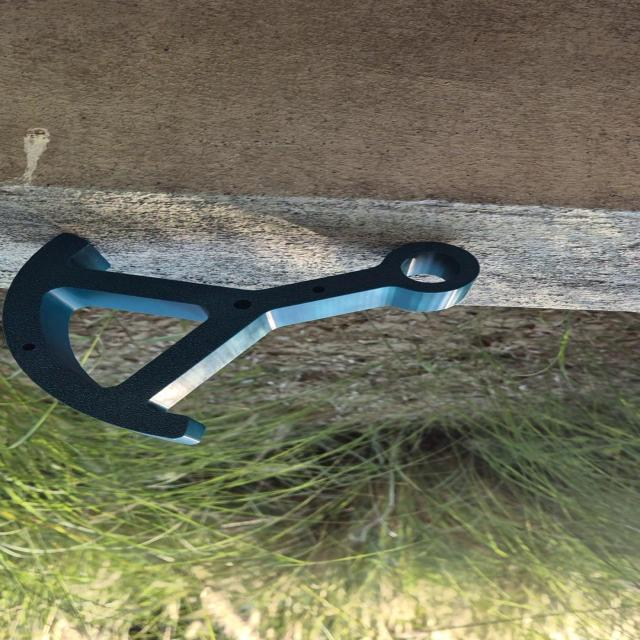haptic: (1, 232, 482, 446)
